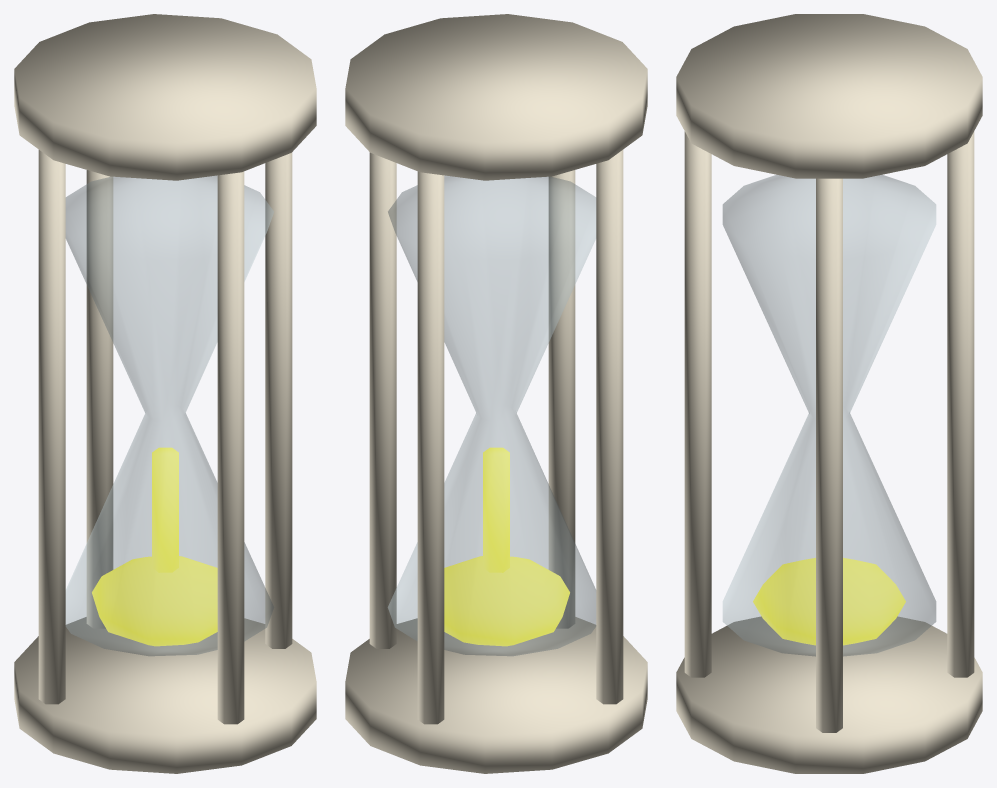
Rendered from hourglass_bone_frame_big.glb.
The picture shows the model from 3 angles, left to right: view 1: azimuth 30°, elevation 25°; view 2: azimuth 150°, elevation 25°; view 3: azimuth 270°, elevation 25°; orthographic projection.
Visible parts, largest first — view 1: GD_hourglass_bone_frame_big__m0, GD_hourglass_bone_frame_big__m1, GD_hourglass_bone_frame_big__m2; view 2: GD_hourglass_bone_frame_big__m0, GD_hourglass_bone_frame_big__m1, GD_hourglass_bone_frame_big__m2; view 3: GD_hourglass_bone_frame_big__m0, GD_hourglass_bone_frame_big__m1, GD_hourglass_bone_frame_big__m2.
Boxes of the visible parts, left/top/right/bottom form: GD_hourglass_bone_frame_big__m0: left=14, top=14, right=316, bottom=773; GD_hourglass_bone_frame_big__m1: left=65, top=175, right=273, bottom=656; GD_hourglass_bone_frame_big__m2: left=92, top=447, right=217, bottom=646; GD_hourglass_bone_frame_big__m0: left=345, top=14, right=647, bottom=773; GD_hourglass_bone_frame_big__m1: left=388, top=175, right=596, bottom=656; GD_hourglass_bone_frame_big__m2: left=444, top=447, right=569, bottom=646; GD_hourglass_bone_frame_big__m0: left=676, top=14, right=982, bottom=773; GD_hourglass_bone_frame_big__m1: left=722, top=175, right=936, bottom=656; GD_hourglass_bone_frame_big__m2: left=753, top=557, right=905, bottom=645.
Size of the model in its own units: 0.1774 by 0.415 by 0.182.
